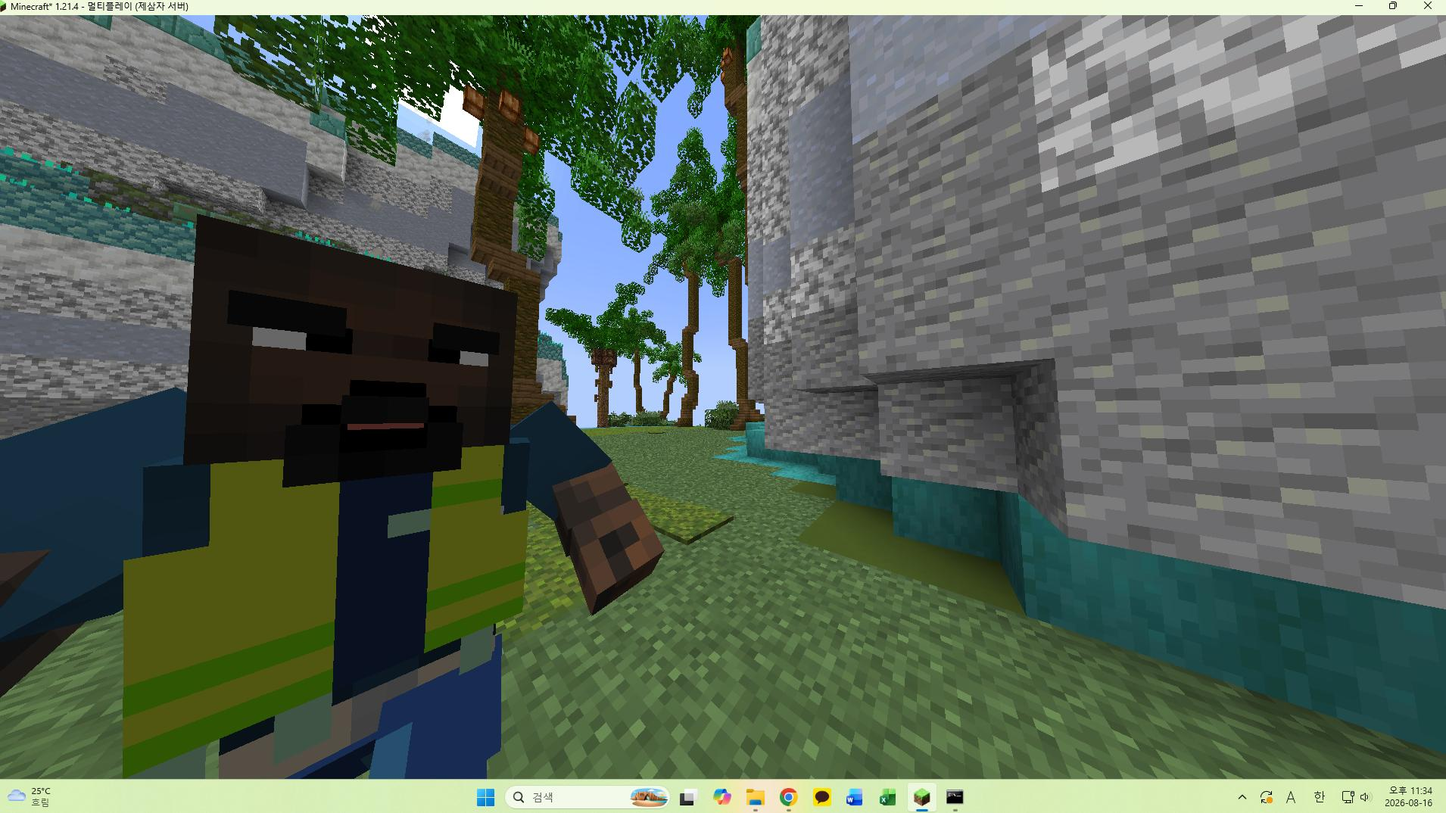Guardian: (0, 217, 664, 777)
